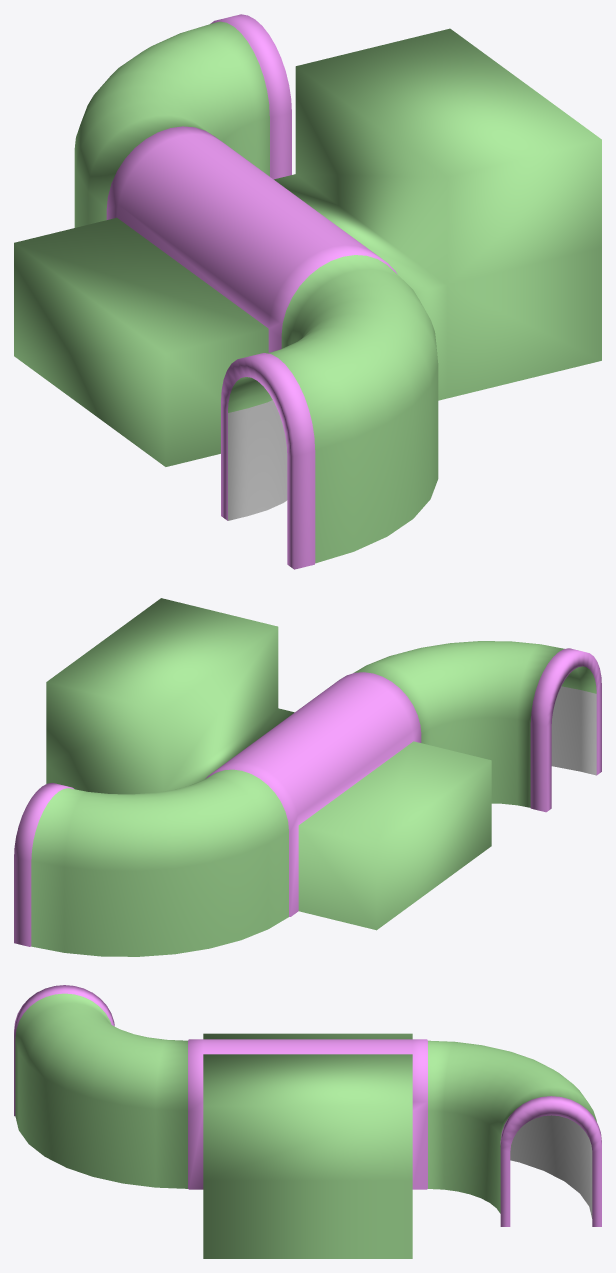
The model's file is Tunnel.fbx.
The picture shows the model from 3 angles, top to bottom: view 1: azimuth 30°, elevation 25°; view 2: azimuth 150°, elevation 25°; view 3: azimuth 270°, elevation 25°; orthographic projection. The views are drawn at different scales.
Parts seen in each view (by area): view 1: Tunnel; view 2: Tunnel; view 3: Tunnel.
Part boxes in pixels (left/top/right/bottom): Tunnel: left=14, top=14, right=601, bottom=569; Tunnel: left=14, top=598, right=601, bottom=956; Tunnel: left=14, top=985, right=601, bottom=1258.
Bounding box in the file's own units: 8.63 × 4.1 × 14.32.
